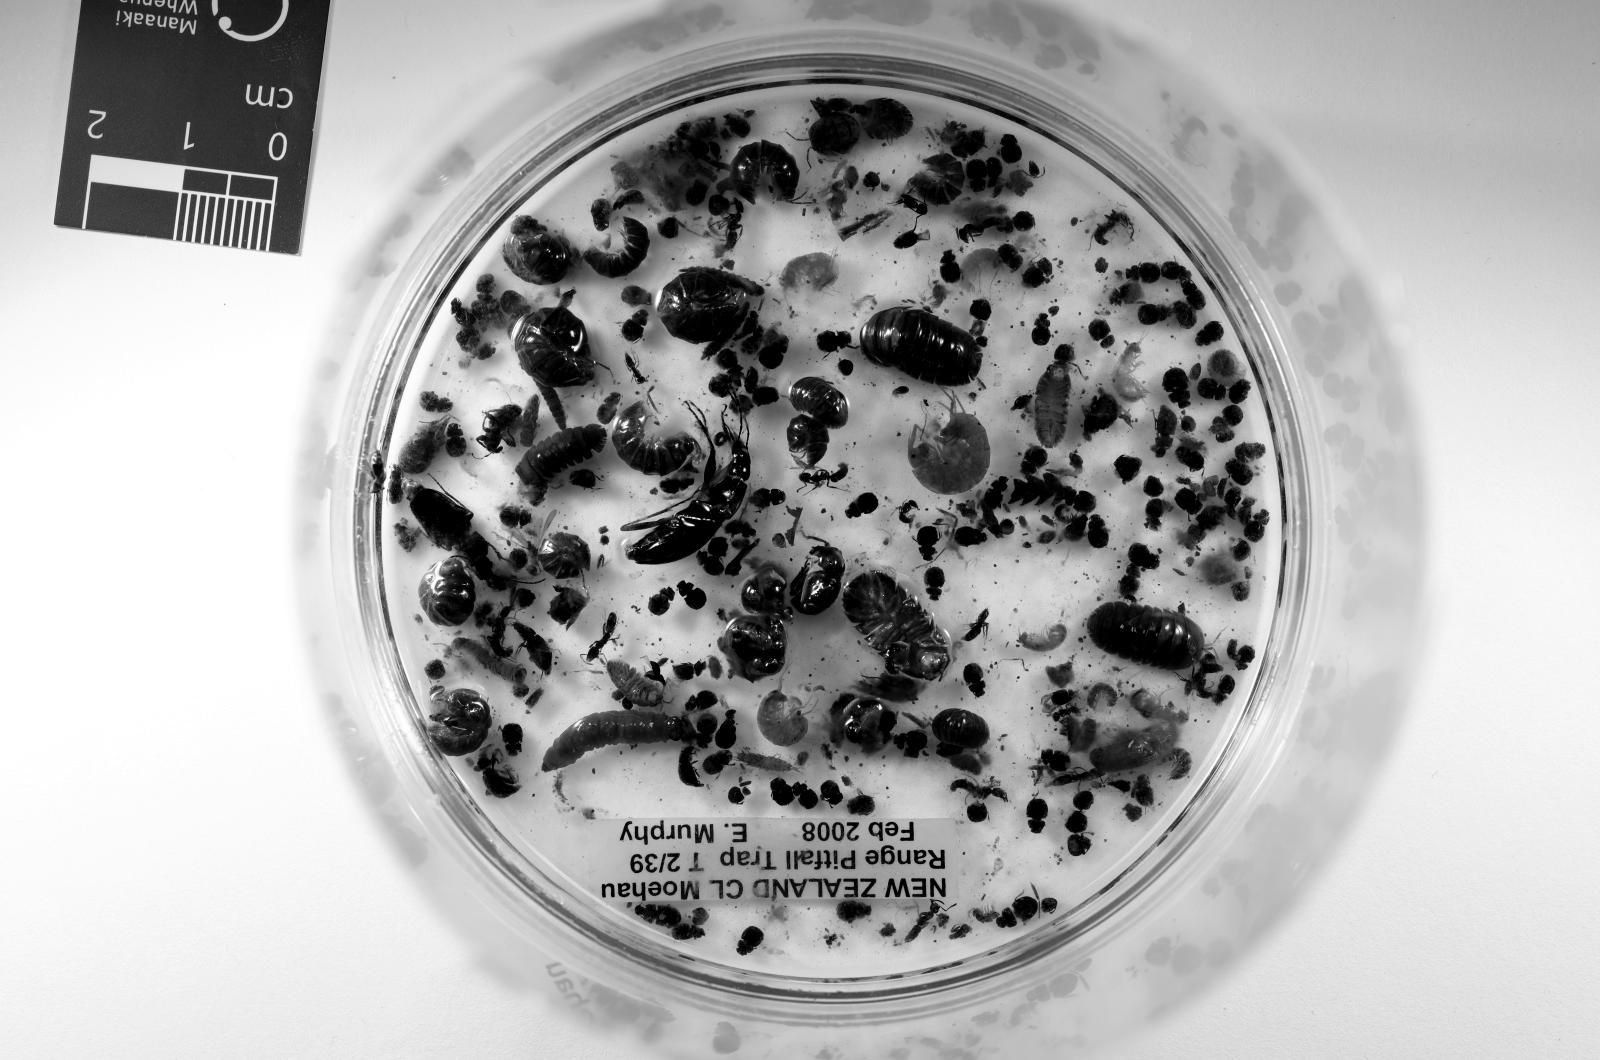amphipoda: (909, 394, 991, 493), (757, 690, 809, 745), (782, 252, 837, 292), (1113, 342, 1147, 403), (959, 248, 1003, 286), (1018, 625, 1069, 652)
carabidae: (622, 422, 750, 565), (403, 485, 506, 590)
coleoptera: (791, 543, 847, 615), (475, 403, 522, 453), (478, 751, 522, 799), (512, 625, 553, 674), (997, 898, 1037, 929), (1153, 407, 1178, 457), (1162, 367, 1191, 409), (634, 904, 681, 929), (678, 745, 704, 786), (1022, 258, 1054, 289), (622, 308, 650, 342), (982, 476, 1010, 509), (915, 525, 940, 562), (816, 329, 853, 354), (847, 491, 879, 518), (966, 159, 991, 193), (1244, 509, 1269, 543), (647, 587, 675, 615), (1175, 444, 1203, 472), (678, 581, 706, 608), (1175, 487, 1203, 516), (1138, 304, 1172, 327), (1119, 565, 1141, 600), (443, 422, 466, 457), (837, 900, 872, 923), (1181, 279, 1206, 310), (1128, 543, 1159, 568), (738, 925, 763, 956), (1041, 749, 1071, 774), (1225, 459, 1254, 485), (1088, 516, 1109, 550), (953, 525, 987, 547), (750, 487, 784, 509), (685, 690, 719, 711), (1025, 799, 1047, 833), (894, 730, 928, 751), (1159, 260, 1191, 283), (1088, 319, 1113, 348), (1197, 323, 1225, 348), (1212, 674, 1235, 705), (704, 751, 731, 776), (769, 780, 793, 807), (1000, 134, 1022, 164), (963, 665, 984, 696), (500, 506, 531, 528), (500, 724, 522, 755), (925, 565, 944, 600), (1197, 379, 1225, 401), (715, 720, 738, 749), (697, 552, 725, 575), (997, 245, 1022, 270), (847, 795, 875, 816), (793, 783, 818, 807), (984, 159, 1003, 189), (940, 252, 959, 283), (1031, 314, 1050, 344), (675, 661, 706, 680), (822, 780, 843, 807), (1229, 379, 1250, 403), (1235, 646, 1256, 671), (672, 925, 704, 941), (1225, 487, 1241, 518), (894, 230, 919, 248), (1125, 264, 1149, 279)
collembola: (972, 906, 997, 923)
formicidae: (584, 612, 618, 661), (903, 900, 940, 944), (1094, 211, 1132, 245), (487, 606, 512, 658), (799, 463, 850, 487), (950, 780, 1006, 801), (721, 199, 744, 252), (626, 354, 647, 382), (896, 500, 919, 525)
gastropoda: (1206, 348, 1244, 388)
isopoda: (841, 571, 950, 680), (860, 308, 982, 386), (1088, 602, 1203, 671), (656, 267, 750, 344), (512, 308, 594, 388), (613, 403, 697, 476), (516, 426, 607, 485), (731, 140, 799, 202), (428, 690, 491, 757), (419, 556, 475, 627), (584, 218, 650, 277), (503, 233, 572, 286), (906, 153, 966, 205), (1035, 363, 1071, 447), (791, 376, 850, 428), (607, 658, 666, 707), (931, 707, 991, 749), (538, 531, 590, 577), (809, 111, 862, 155), (856, 99, 913, 140), (788, 416, 828, 468), (738, 751, 791, 774), (1166, 749, 1191, 780), (1088, 684, 1119, 707)
opiliones: (397, 416, 451, 476)
